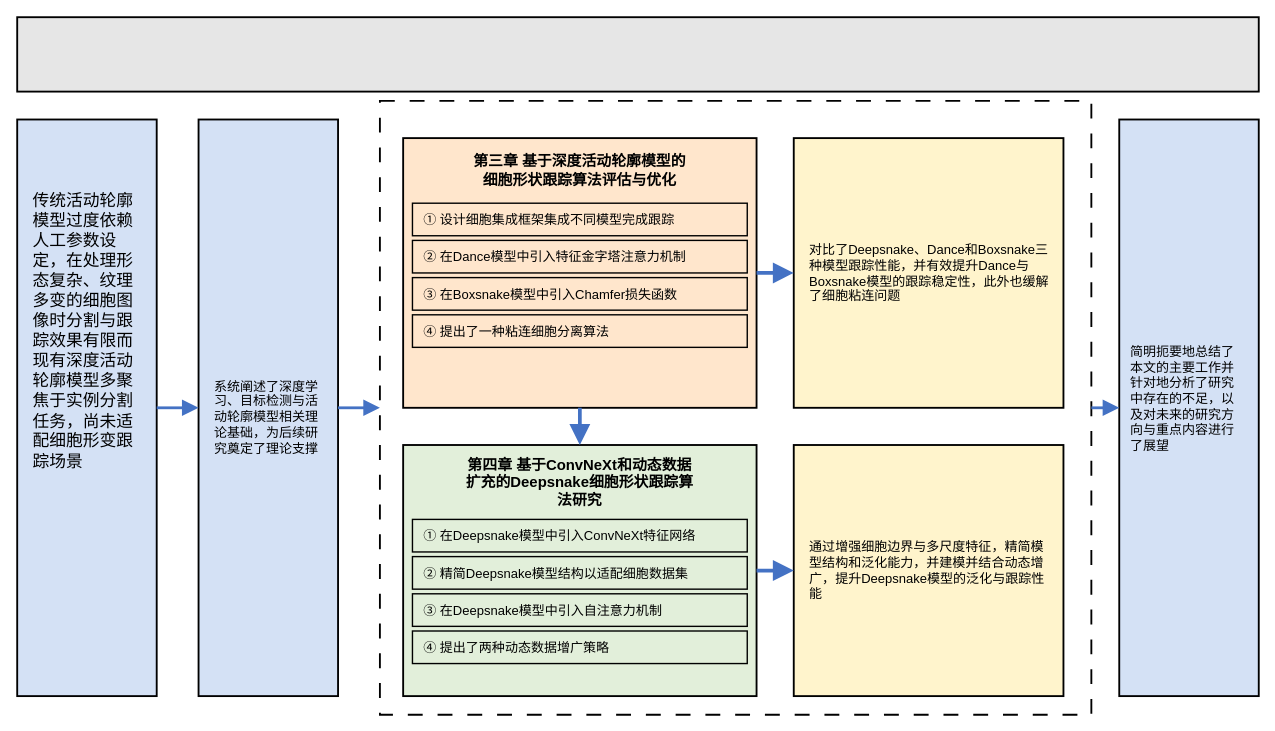
The diagram is 1275 pixels wide and 731 high, and some of its shapes have lost their labels. Each missing label, with the box of its shape:
基于深度活动轮廓模型的细胞跟踪算法研究: (16, 16, 1259, 92)
第一章 绪论: (16, 118, 157, 697)
第二章 相关理 论基础 及技术: (197, 118, 339, 697)
第五章 总结与 展望: (1118, 118, 1259, 697)
